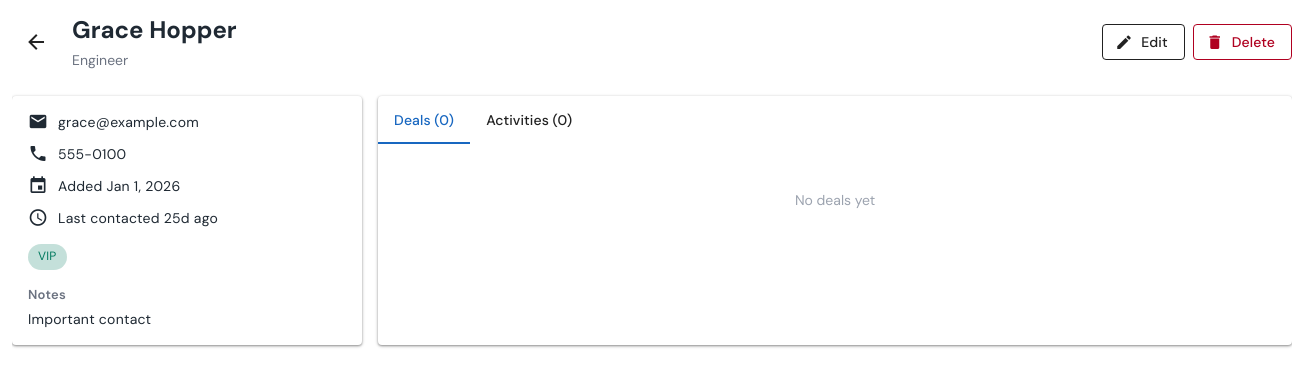
Test case: ContactDetailPage › shows empty placeholder text when the contact has no deals or activities
Check: the text "No deals yet" is shown, box [795,191,875,209]
Click the tab "Activities (0)": click(529, 120) [470,96,588,144]
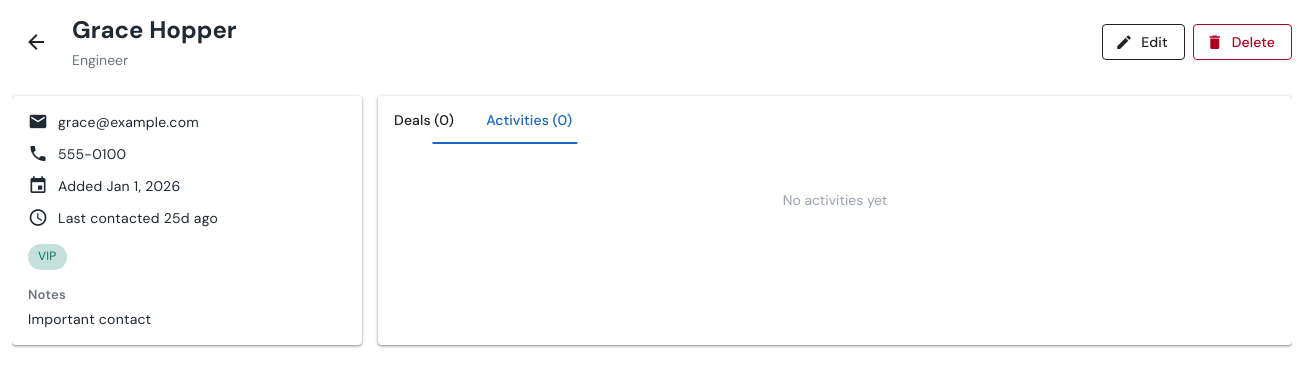
Check: the text "No activities yet" is shown, box [783,191,887,209]
